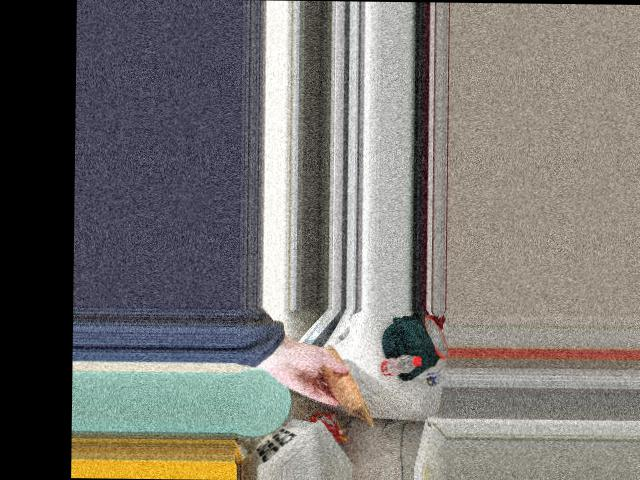sweet_potato: (324, 354, 360, 405)
